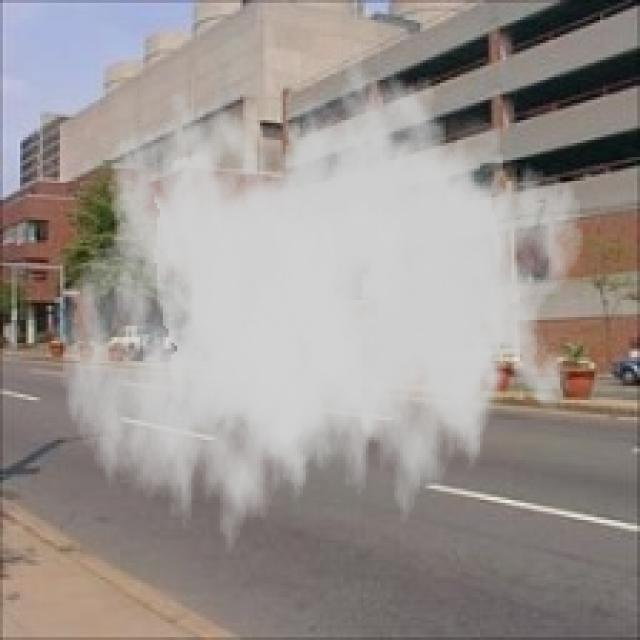smoke: (60, 49, 586, 574)
